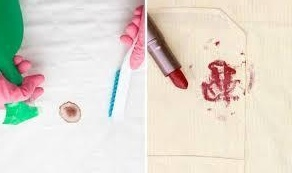blood: (57, 101, 81, 126)
lipstick: (189, 38, 243, 107), (241, 61, 261, 96), (203, 105, 240, 121)
